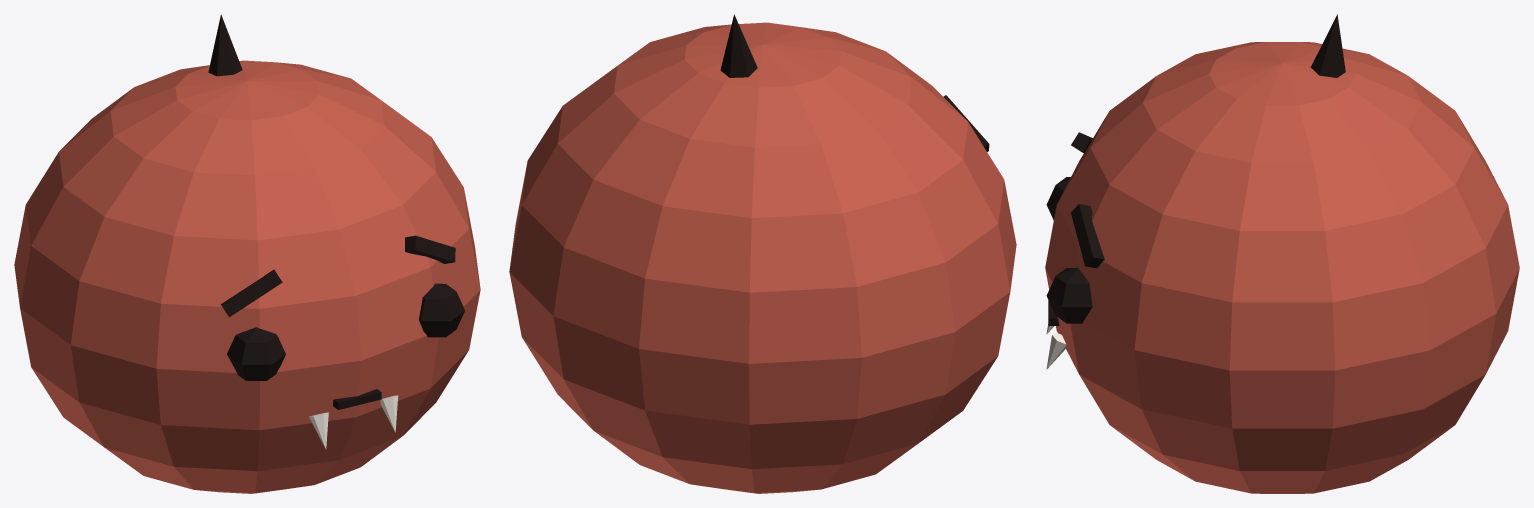
The model's file is cruelty.glb.
3 renders of one model, left to right at view 1: azimuth 30°, elevation 25°; view 2: azimuth 150°, elevation 25°; view 3: azimuth 270°, elevation 25°, orthographic. The views are drawn at different scales.
Parts seen in each view (by area): view 1: cruelty; view 2: cruelty; view 3: cruelty.
Part boxes in pixels (box(x1,y1,x2,y2)): cruelty: box(14, 14, 480, 493); cruelty: box(509, 14, 1016, 493); cruelty: box(1045, 14, 1519, 493).
Size of the model in its own units: 0.6727 by 0.7 by 0.6571.
